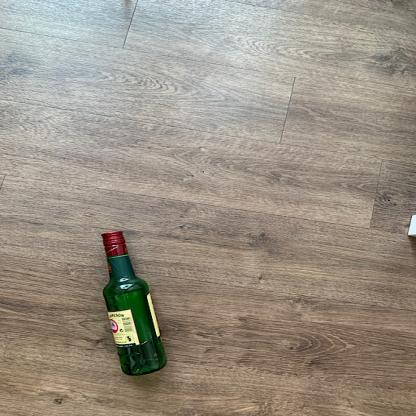trash: (100, 226, 171, 378)
